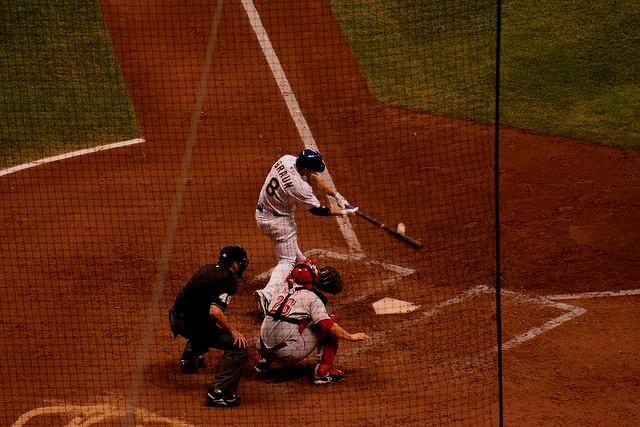bat: (356, 211, 424, 252)
